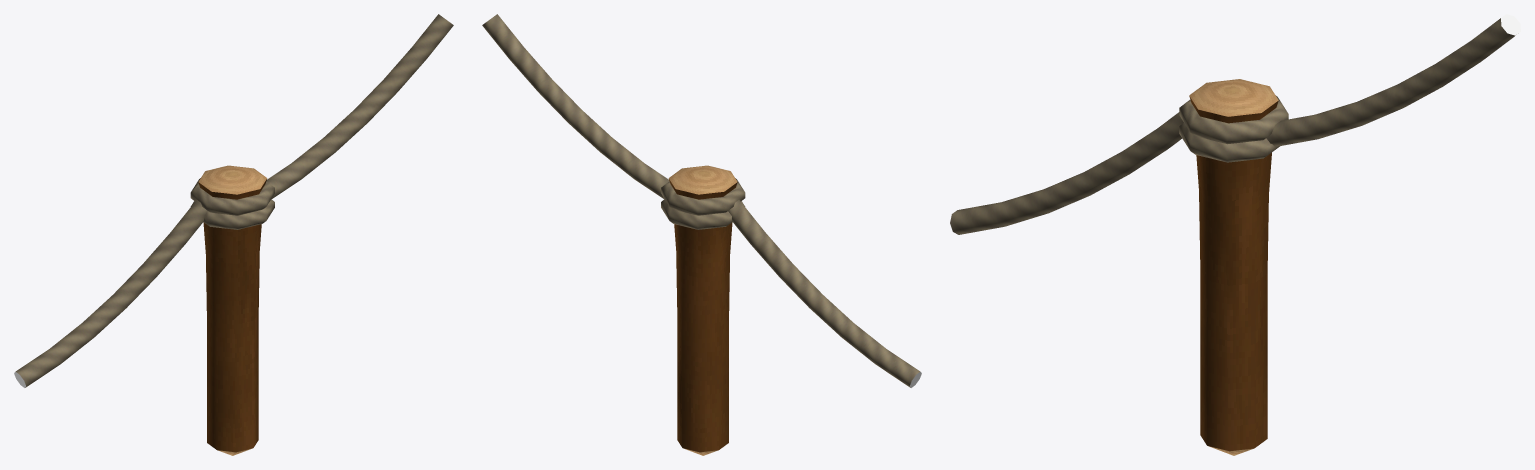
The model's file is Docks_Railing_Posts_Steps_Roped_1x3.glb.
3 views of the same model, side by side, from view 1: azimuth 30°, elevation 25°; view 2: azimuth 150°, elevation 25°; view 3: azimuth 330°, elevation 25° (orthographic). The views are drawn at different scales.
Visible parts, largest first — view 1: Docks_Railing_Posts_Steps_Roped_1x3; view 2: Docks_Railing_Posts_Steps_Roped_1x3; view 3: Docks_Railing_Posts_Steps_Roped_1x3.
Boxes of the visible parts, box(x1,y1,x2,y2) form: Docks_Railing_Posts_Steps_Roped_1x3: box(14, 14, 453, 455); Docks_Railing_Posts_Steps_Roped_1x3: box(482, 14, 921, 455); Docks_Railing_Posts_Steps_Roped_1x3: box(950, 14, 1520, 455).
Size of the model in its own units: 180 by 154 by 28.13.
4 materials, 3 textured.
